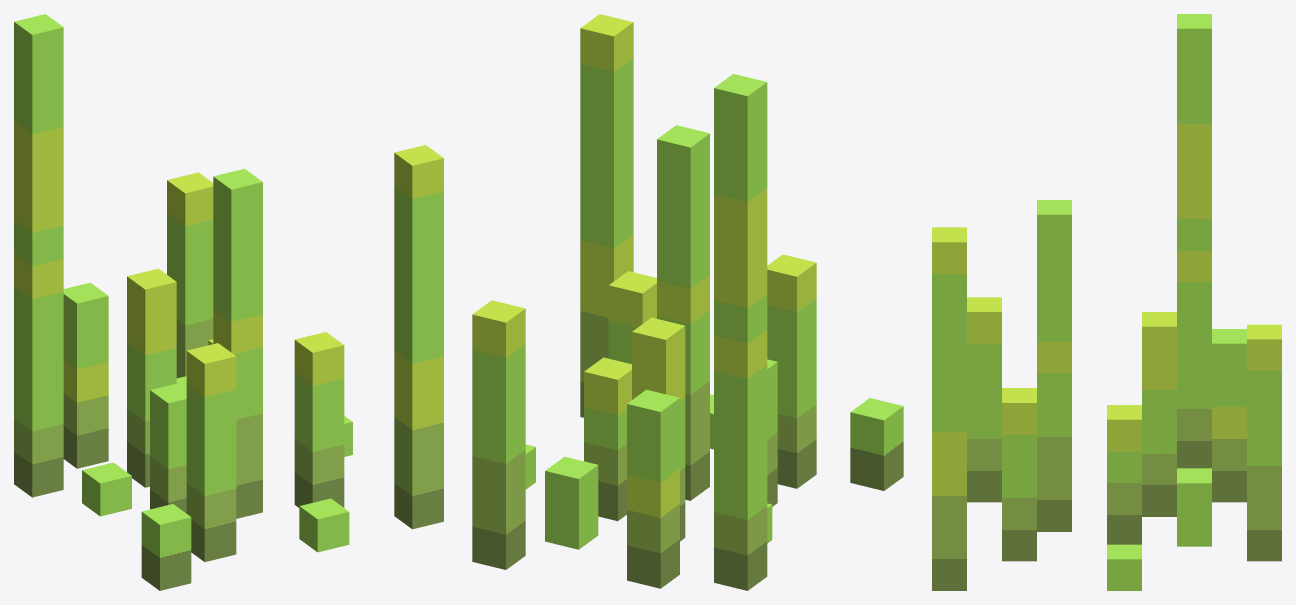
The model's file is grass_tall_spring.fbx.
The picture shows the model from 3 angles, left to right: view 1: azimuth 30°, elevation 25°; view 2: azimuth 150°, elevation 25°; view 3: azimuth 270°, elevation 25°; orthographic projection. The views are drawn at different scales.
Visible parts, largest first — view 1: grass_tall_spring; view 2: grass_tall_spring; view 3: grass_tall_spring.
Part boxes in pixels (<box>): grass_tall_spring: <box>14,14,443,590</box>; grass_tall_spring: <box>472,14,903,590</box>; grass_tall_spring: <box>932,14,1281,590</box>.
Size of the model in its own units: 61.58 by 95.8 by 68.43.
1 material, 1 textured.
